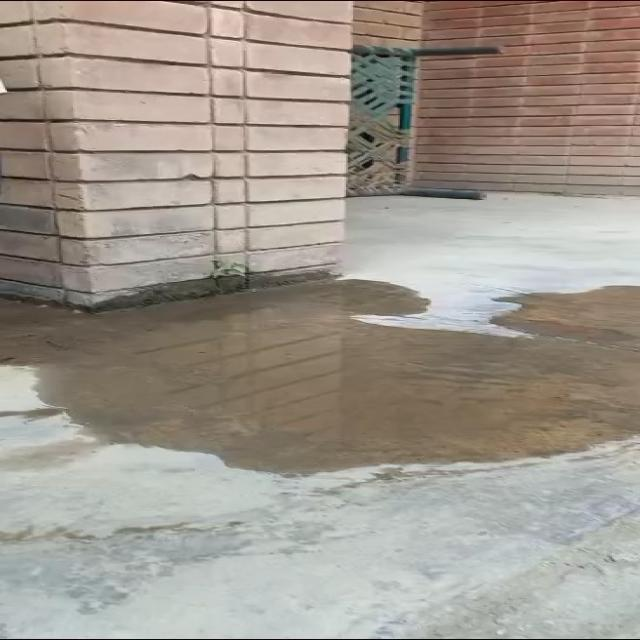water accumulation: (1, 279, 640, 475)
